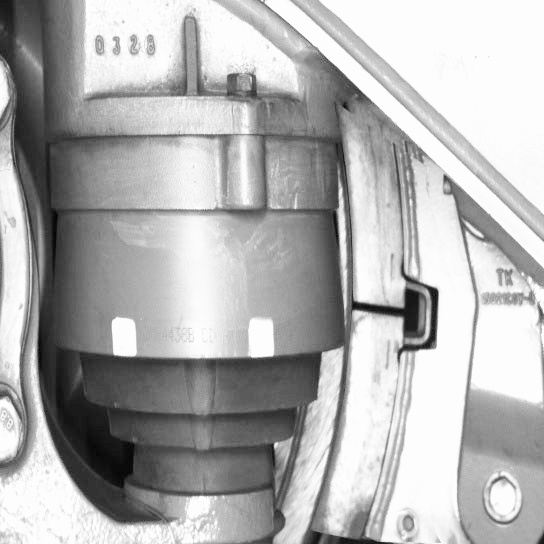ClosedKnifeSwitch: (299, 136, 419, 541)
